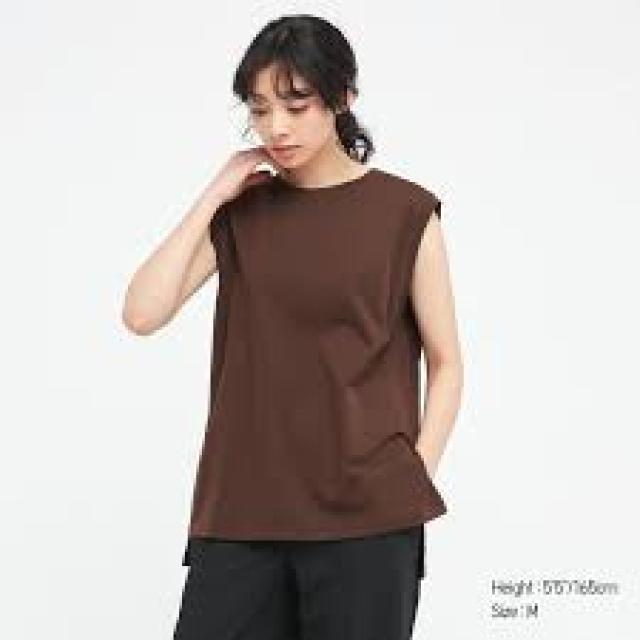no_vest: (186, 164, 449, 538)
